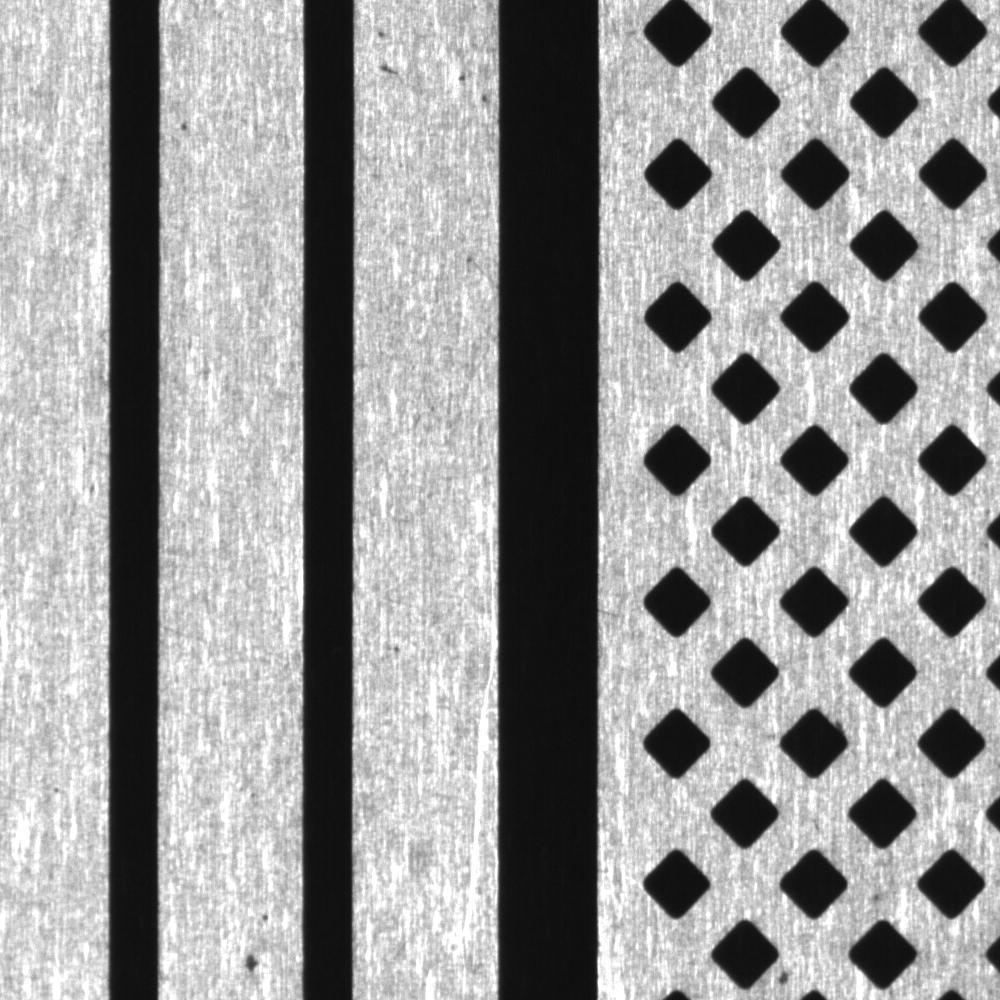Etching: (370, 26, 492, 111), (233, 947, 268, 982)
Pinhole: (172, 105, 204, 151), (386, 637, 409, 663), (255, 904, 277, 929)
